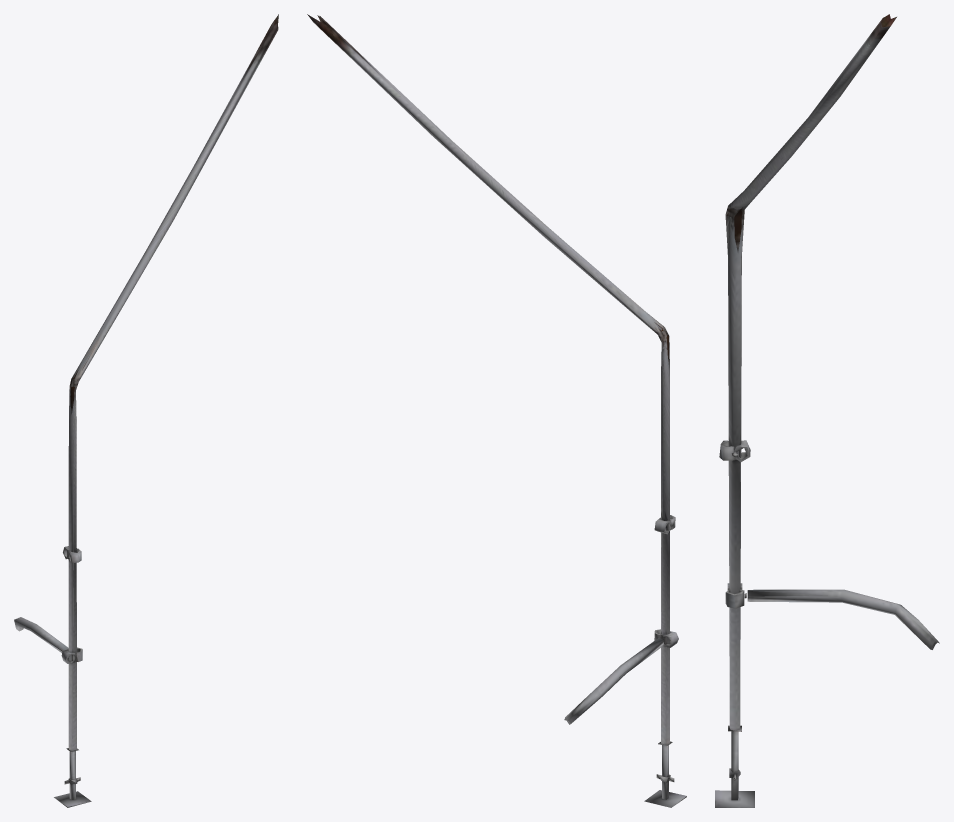
Rendered from industrial_scaffold_pole_bent_lod2.glb.
3 renders of one model, left to right at view 1: azimuth 30°, elevation 25°; view 2: azimuth 150°, elevation 25°; view 3: azimuth 270°, elevation 25°, orthographic. The views are drawn at different scales.
Visible parts, largest first — view 1: industrial_scaffold_pole_bent_paint; view 2: industrial_scaffold_pole_bent_paint; view 3: industrial_scaffold_pole_bent_paint.
Part boxes in pixels (x1,y1,x2,y2): industrial_scaffold_pole_bent_paint: (14, 14, 278, 807); industrial_scaffold_pole_bent_paint: (307, 14, 686, 807); industrial_scaffold_pole_bent_paint: (715, 14, 939, 807).
Size of the model in its own units: 1.7 by 4.01 by 0.8458.
Materials: 1 (1 with a texture image).
